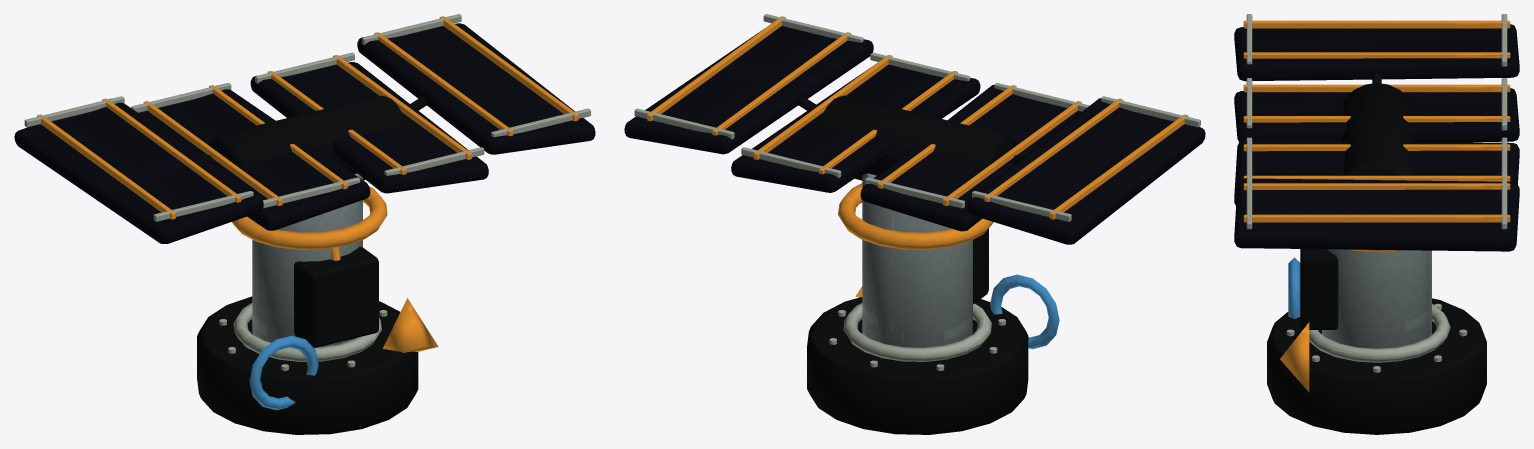
File: solar-power-standard.glb
The picture shows the model from 3 angles, left to right: view 1: azimuth 30°, elevation 25°; view 2: azimuth 150°, elevation 25°; view 3: azimuth 270°, elevation 25°; orthographic projection.
Visible parts, largest first — view 1: Solar_Base, ANIM_PANEL_LEFT_1, ANIM_PANEL_RIGHT_1, ANIM_PANEL_RIGHT_0, ANIM_PANEL_LEFT_0, Solar_Service_Box, Solar_Hinge, Solar_Pedestal, Solar_Collar, Solar_Azimuth_Bearing, PORT_Signal, PORT_Power (+16 smaller); view 2: Solar_Base, ANIM_PANEL_LEFT_1, ANIM_PANEL_RIGHT_1, Solar_Pedestal, ANIM_PANEL_RIGHT_0, ANIM_PANEL_LEFT_0, Solar_Hinge, Solar_Collar, Solar_Azimuth_Bearing, PORT_Signal, Panel_Rail_-1_1_-0.095, Panel_Rail_1_1_0.095 (+15 smaller); view 3: Solar_Base, ANIM_PANEL_RIGHT_1, ANIM_PANEL_LEFT_1, ANIM_PANEL_LEFT_0, Solar_Pedestal, ANIM_PANEL_RIGHT_0, Solar_Hinge, Solar_Service_Box, Solar_Azimuth_Bearing, Panel_Rail_1_1_0.095, Panel_Rail_-1_1_-0.095, Panel_Rail_-1_0_-0.095 (+13 smaller).
Part boxes in pixels (x1,y1,x2,y2): Solar_Base: (197,296,418,434); ANIM_PANEL_LEFT_1: (14,98,263,243); ANIM_PANEL_RIGHT_1: (357,23,595,154); ANIM_PANEL_RIGHT_0: (250,62,488,193); ANIM_PANEL_LEFT_0: (138,89,370,230); Solar_Service_Box: (294,246,378,347); Solar_Hinge: (208,95,407,180); Solar_Pedestal: (252,173,362,347); Solar_Collar: (232,186,387,249); Solar_Azimuth_Bearing: (233,303,381,361); PORT_Signal: (249,335,318,410); PORT_Power: (382,298,438,352); Solar_Base: (807,297,1028,434); ANIM_PANEL_LEFT_1: (967,98,1205,244); ANIM_PANEL_RIGHT_1: (624,26,873,154); Solar_Pedestal: (862,173,972,347); ANIM_PANEL_RIGHT_0: (731,64,980,192); ANIM_PANEL_LEFT_0: (860,85,1081,231); Solar_Hinge: (818,95,1017,180); Solar_Collar: (838,183,993,249); Solar_Azimuth_Bearing: (843,303,991,361); PORT_Signal: (990,274,1059,349); Panel_Rail_-1_1_-0.095: (1049,114,1188,219); Panel_Rail_1_1_0.095: (647,16,785,121); Solar_Base: (1267,298,1486,434); ANIM_PANEL_RIGHT_1: (1234,178,1519,251); ANIM_PANEL_LEFT_1: (1234,24,1519,81); ANIM_PANEL_LEFT_0: (1234,88,1519,142); Solar_Pedestal: (1322,249,1431,348); ANIM_PANEL_RIGHT_0: (1234,139,1519,205); Solar_Hinge: (1340,83,1414,175); Solar_Service_Box: (1300,249,1338,329); Solar_Azimuth_Bearing: (1309,304,1450,362); Panel_Rail_1_1_0.095: (1243,214,1510,222); Panel_Rail_-1_1_-0.095: (1243,20,1510,28); Panel_Rail_-1_0_-0.095: (1243,84,1510,92).
Bounding box in the file's own units: 1.31 × 0.768 × 0.7279.
6 materials, 6 textured.
